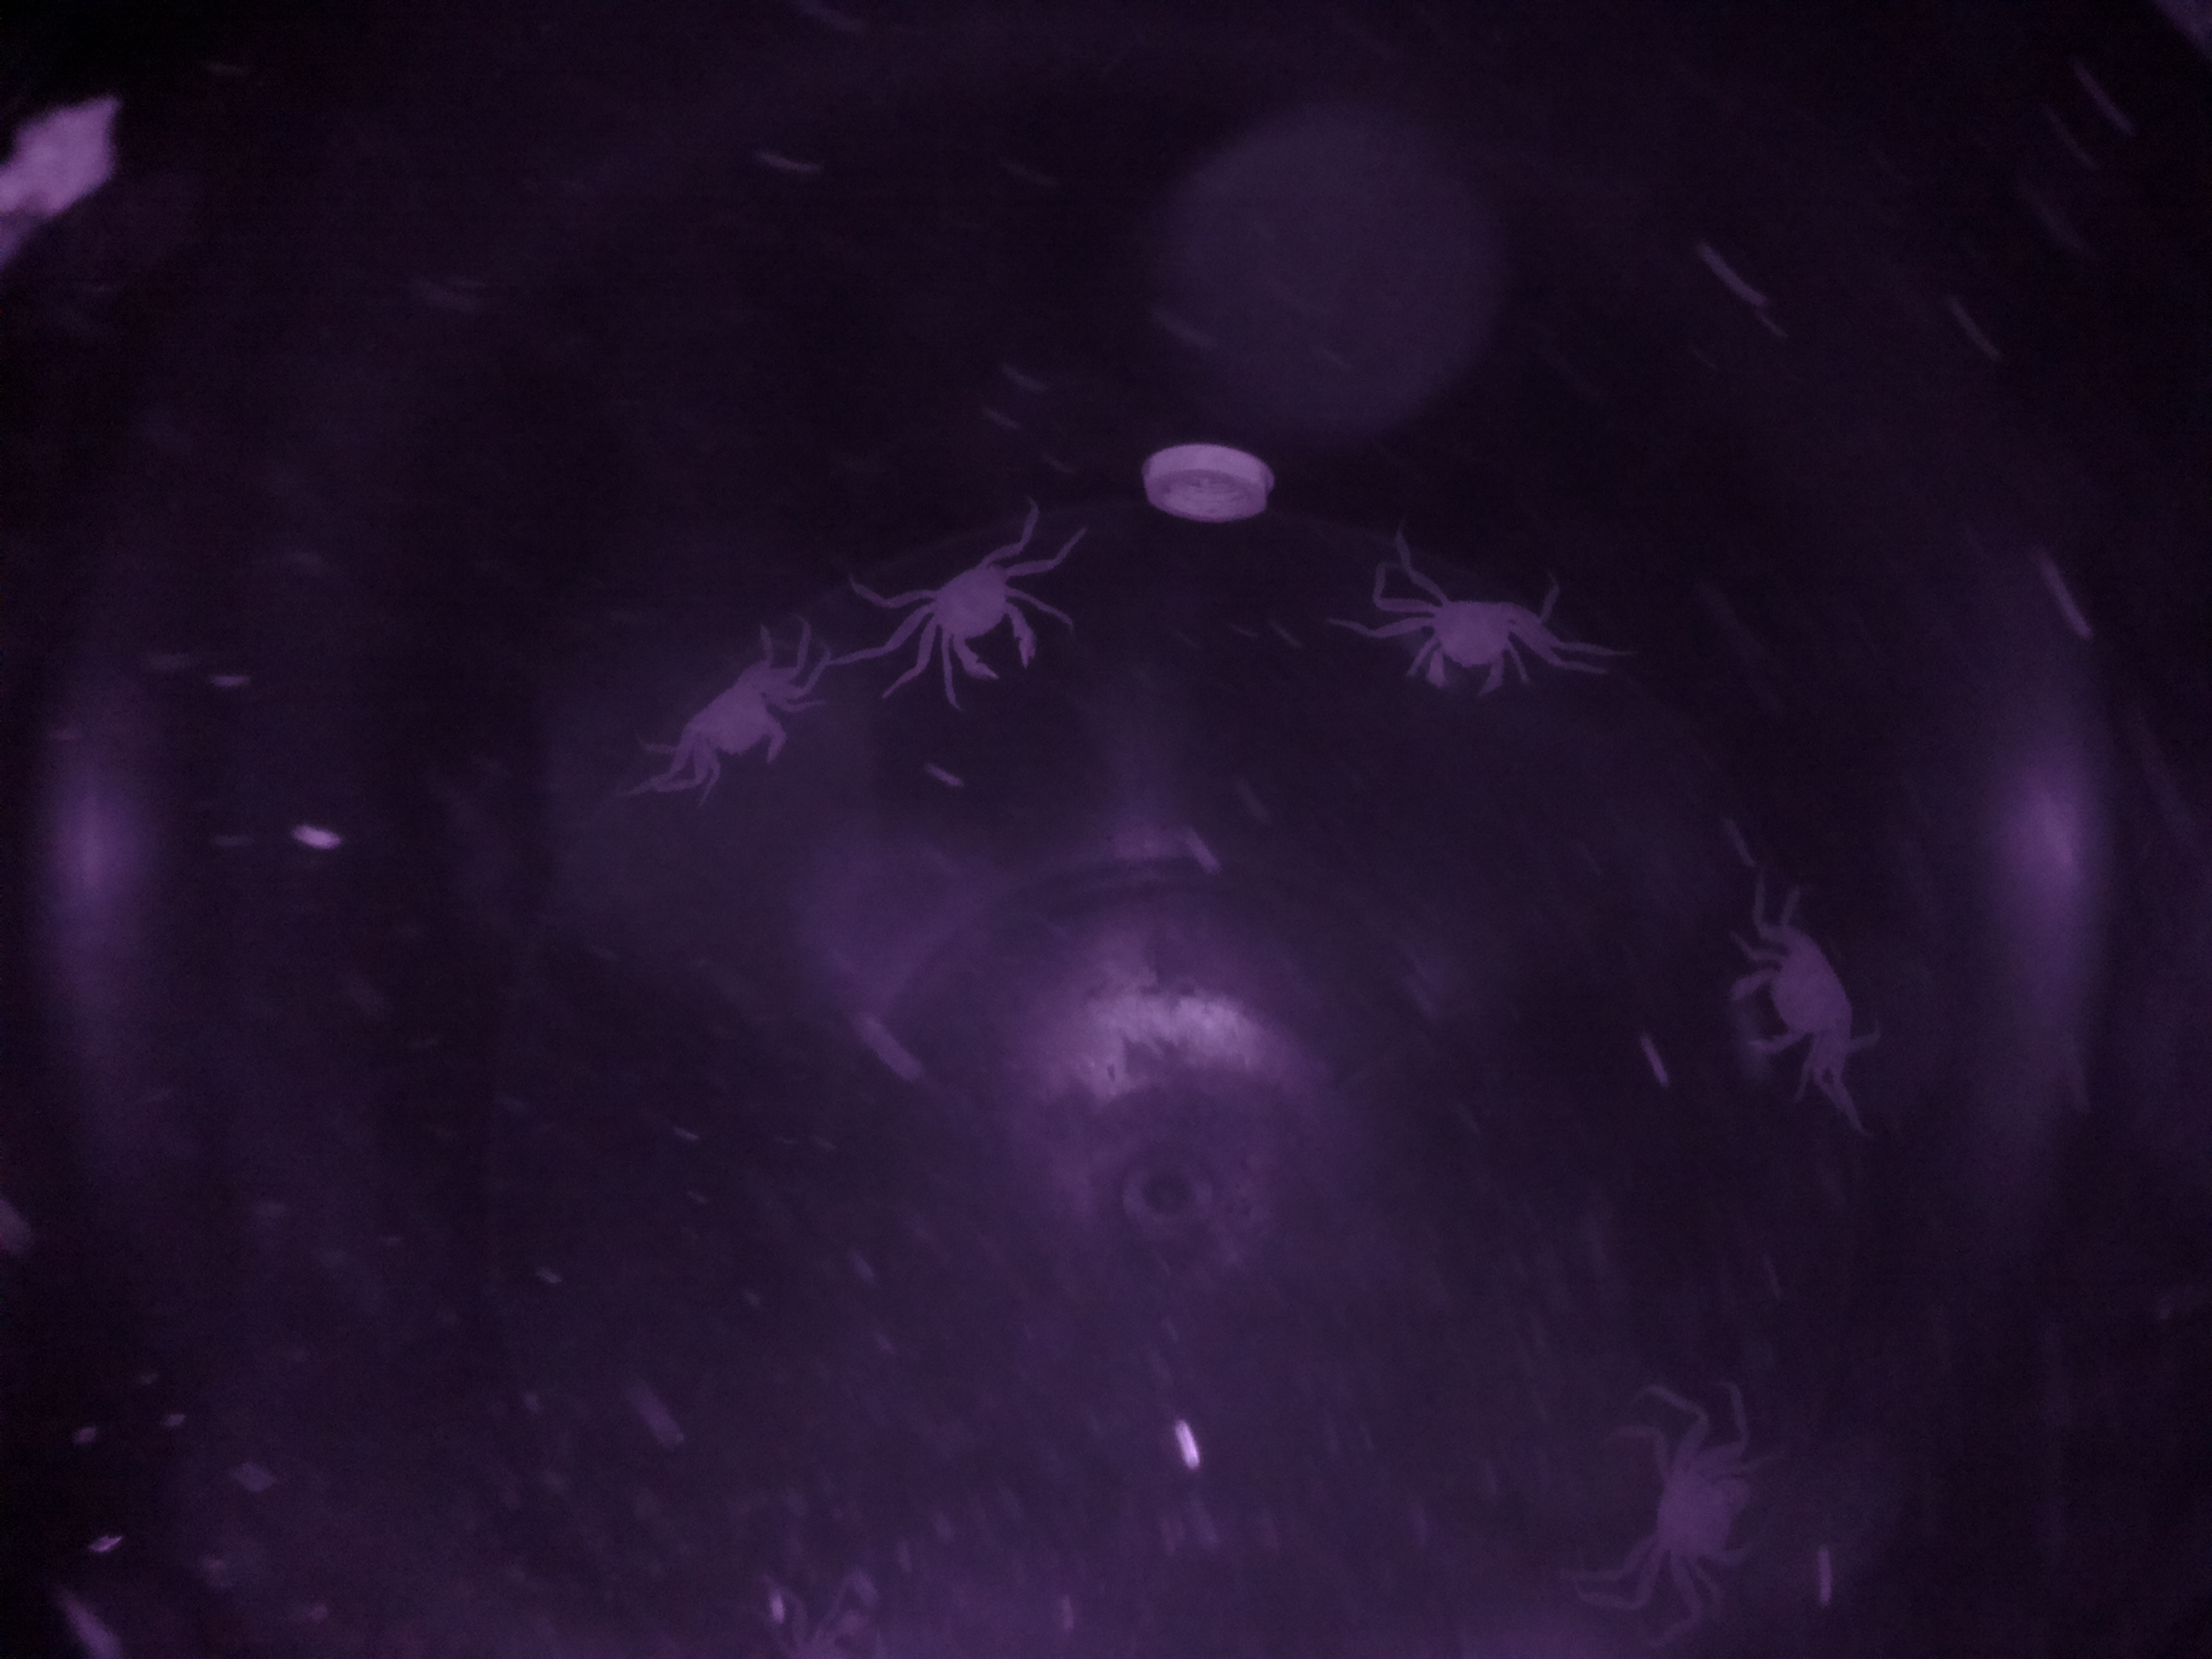Crab: (1359, 558, 1581, 720), (1710, 910, 1895, 1105), (895, 526, 1062, 718), (658, 640, 845, 796)
